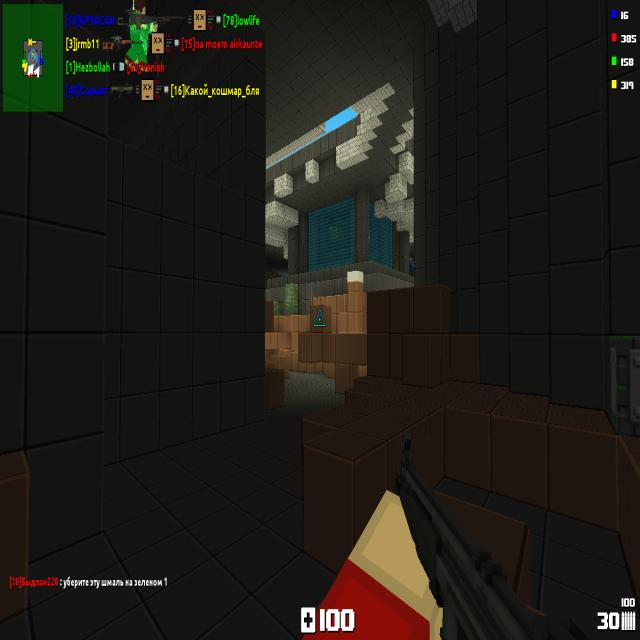enemy: (410, 257, 414, 273)
